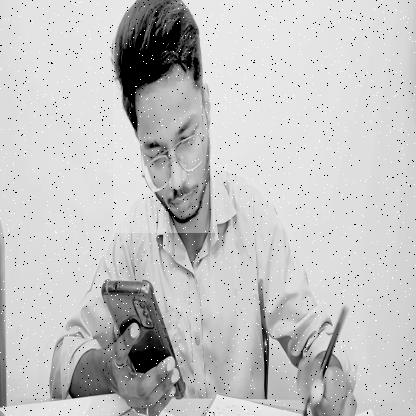Distracted: (113, 0, 215, 233)
